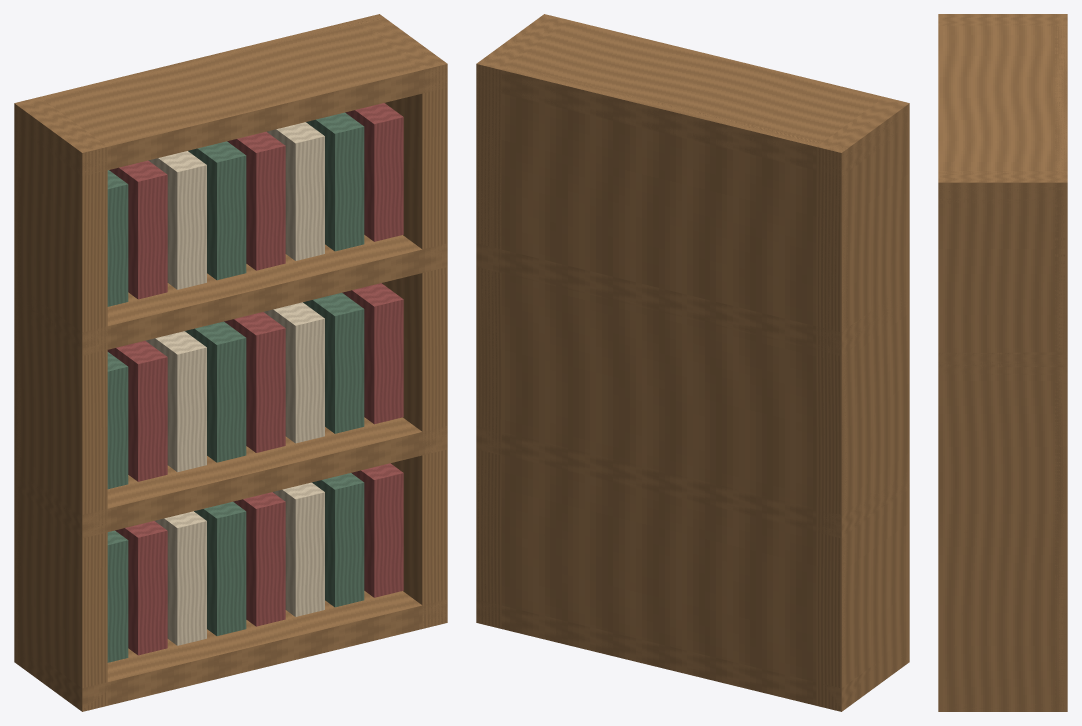
3 views of the same model, side by side, from view 1: azimuth 30°, elevation 25°; view 2: azimuth 150°, elevation 25°; view 3: azimuth 270°, elevation 25° (orthographic). The views are drawn at different scales.
Visible parts, largest first — view 1: Regal mit Schulbüchern; view 2: Regal mit Schulbüchern; view 3: Regal mit Schulbüchern.
Part boxes in pixels (x1,y1,x2,y2): Regal mit Schulbüchern: [14, 14, 447, 711]; Regal mit Schulbüchern: [476, 14, 909, 711]; Regal mit Schulbüchern: [938, 14, 1067, 711].
Bounding box in the file's own units: 1.3 × 1.9 × 0.42.
4 materials, 4 textured.
